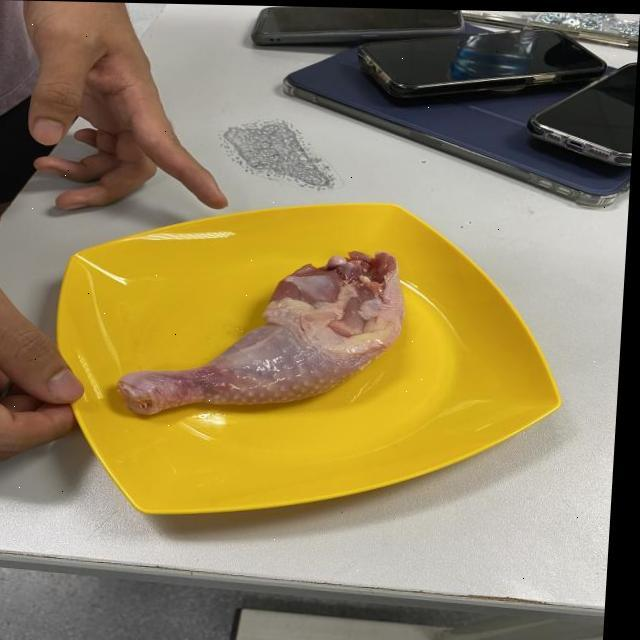quater: (92, 232, 432, 428)
